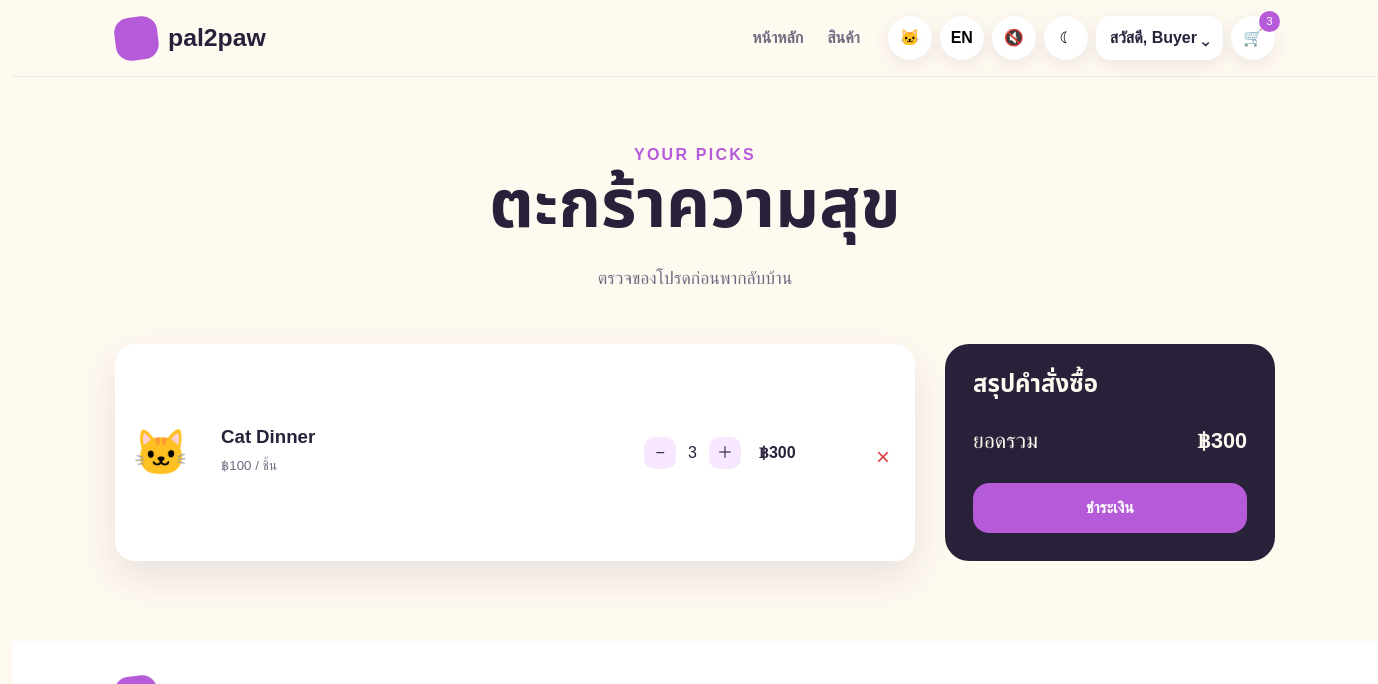
Test: renders CartPage and applies plus-limit, minus-to-zero, and remove behavior
Expected: the heading "Cat Dinner" is shown, [221, 424, 315, 452]
Click the button named "เพิ่มจำนวน Cat Dinner": coordinates (725, 452) [709, 436, 741, 468]
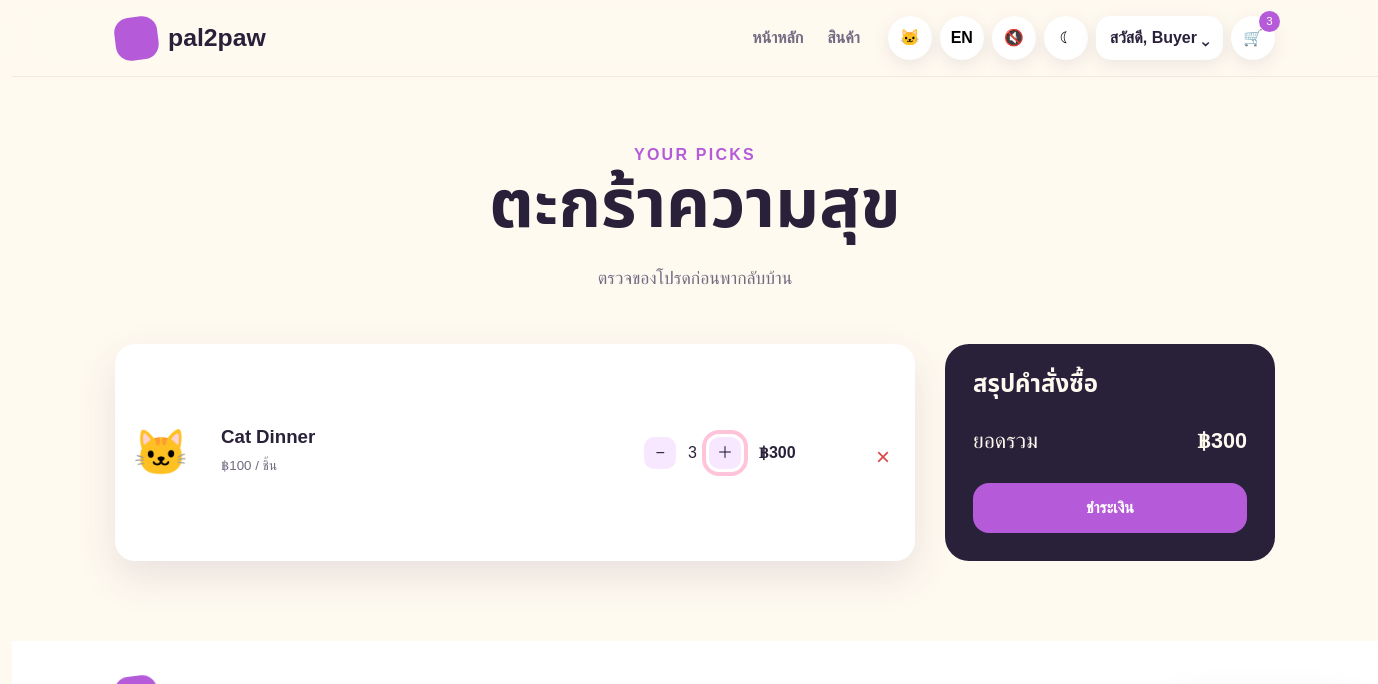
Click the button named "ลดจำนวน Cat Dinner": coordinates (660, 452) [644, 436, 676, 468]
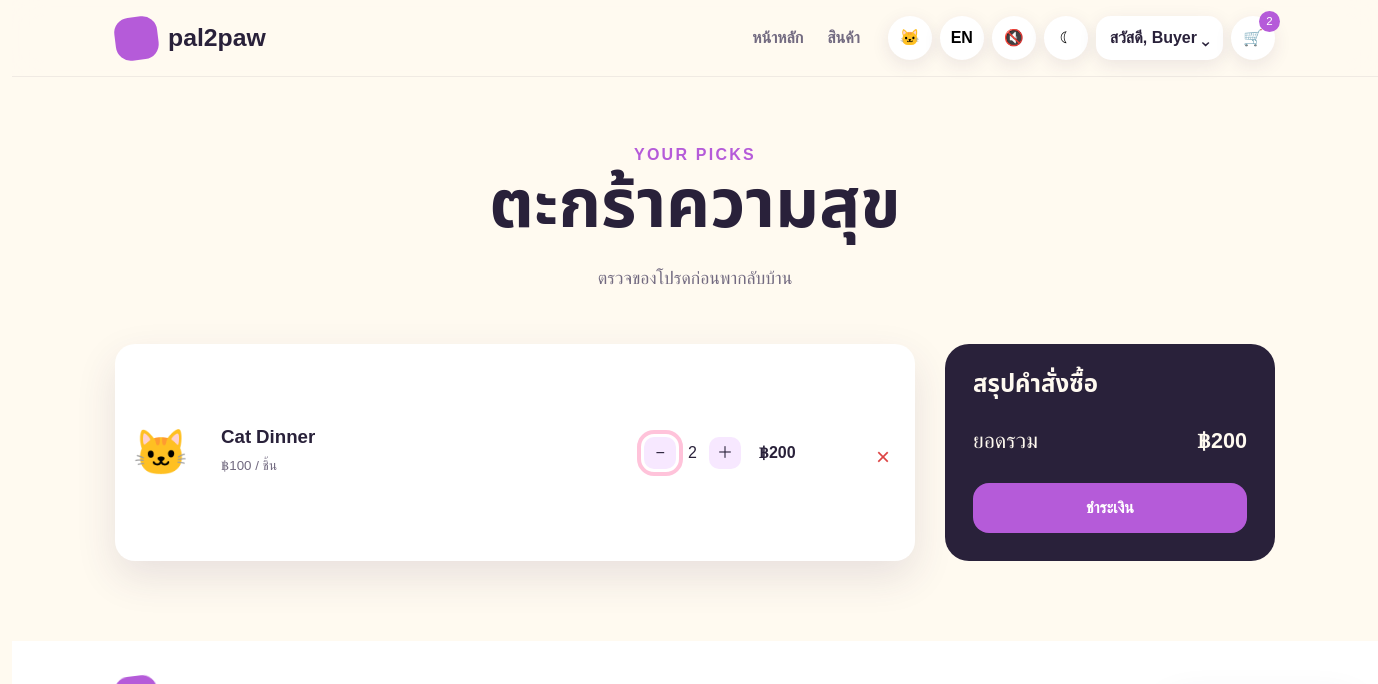
Click the button named "ลบ Cat Dinner": coordinates (883, 452) [867, 436, 899, 468]
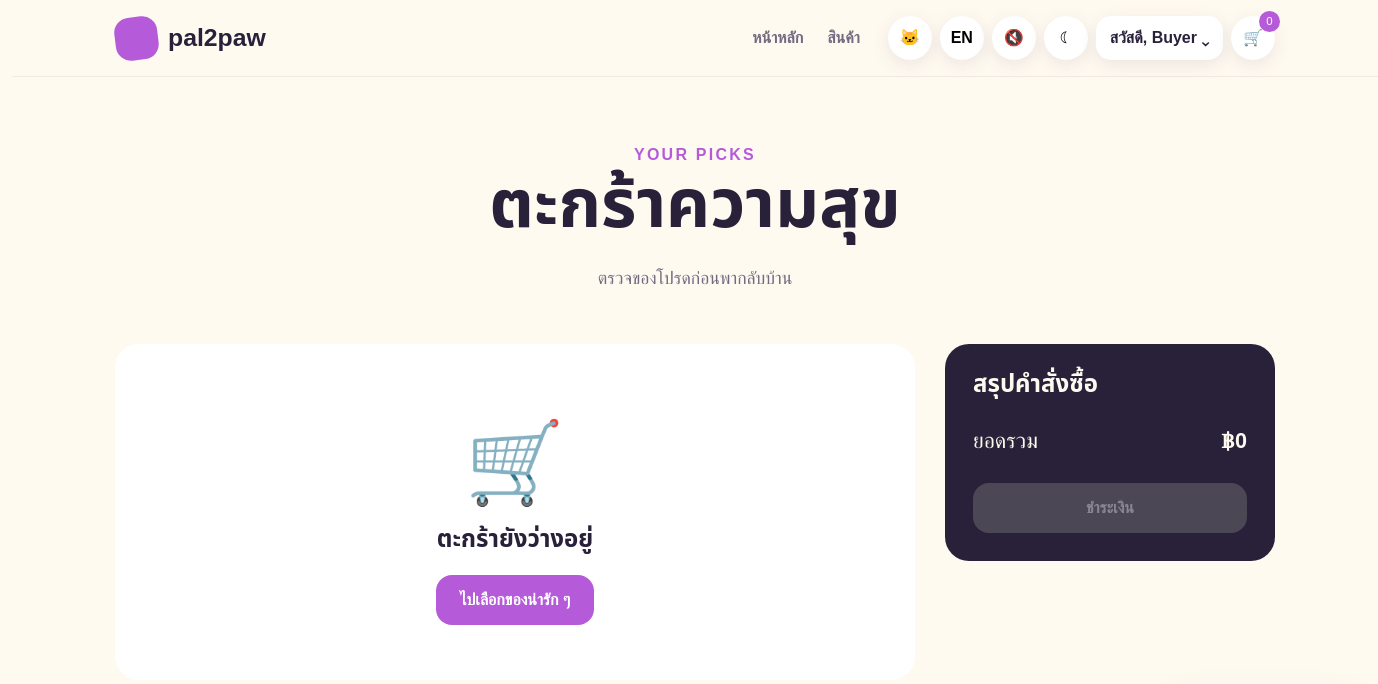
Now the heading "ตะกร้ายังว่างอยู่" is shown, box [437, 522, 593, 558]
